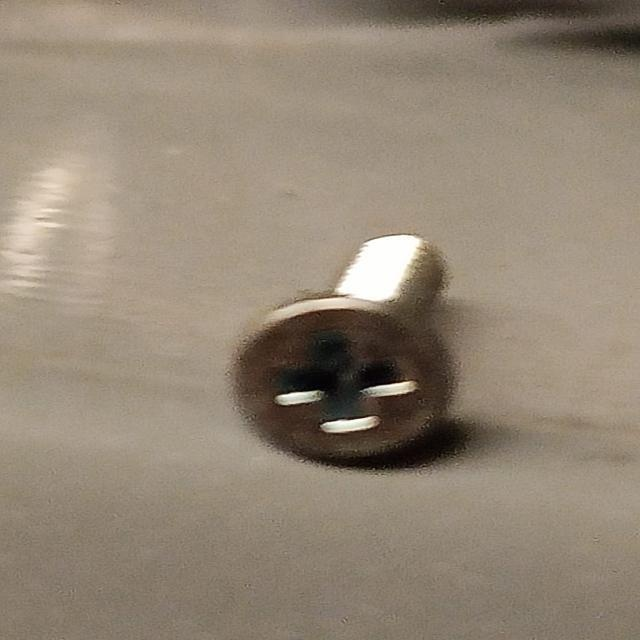phillips: (233, 297, 455, 466)
